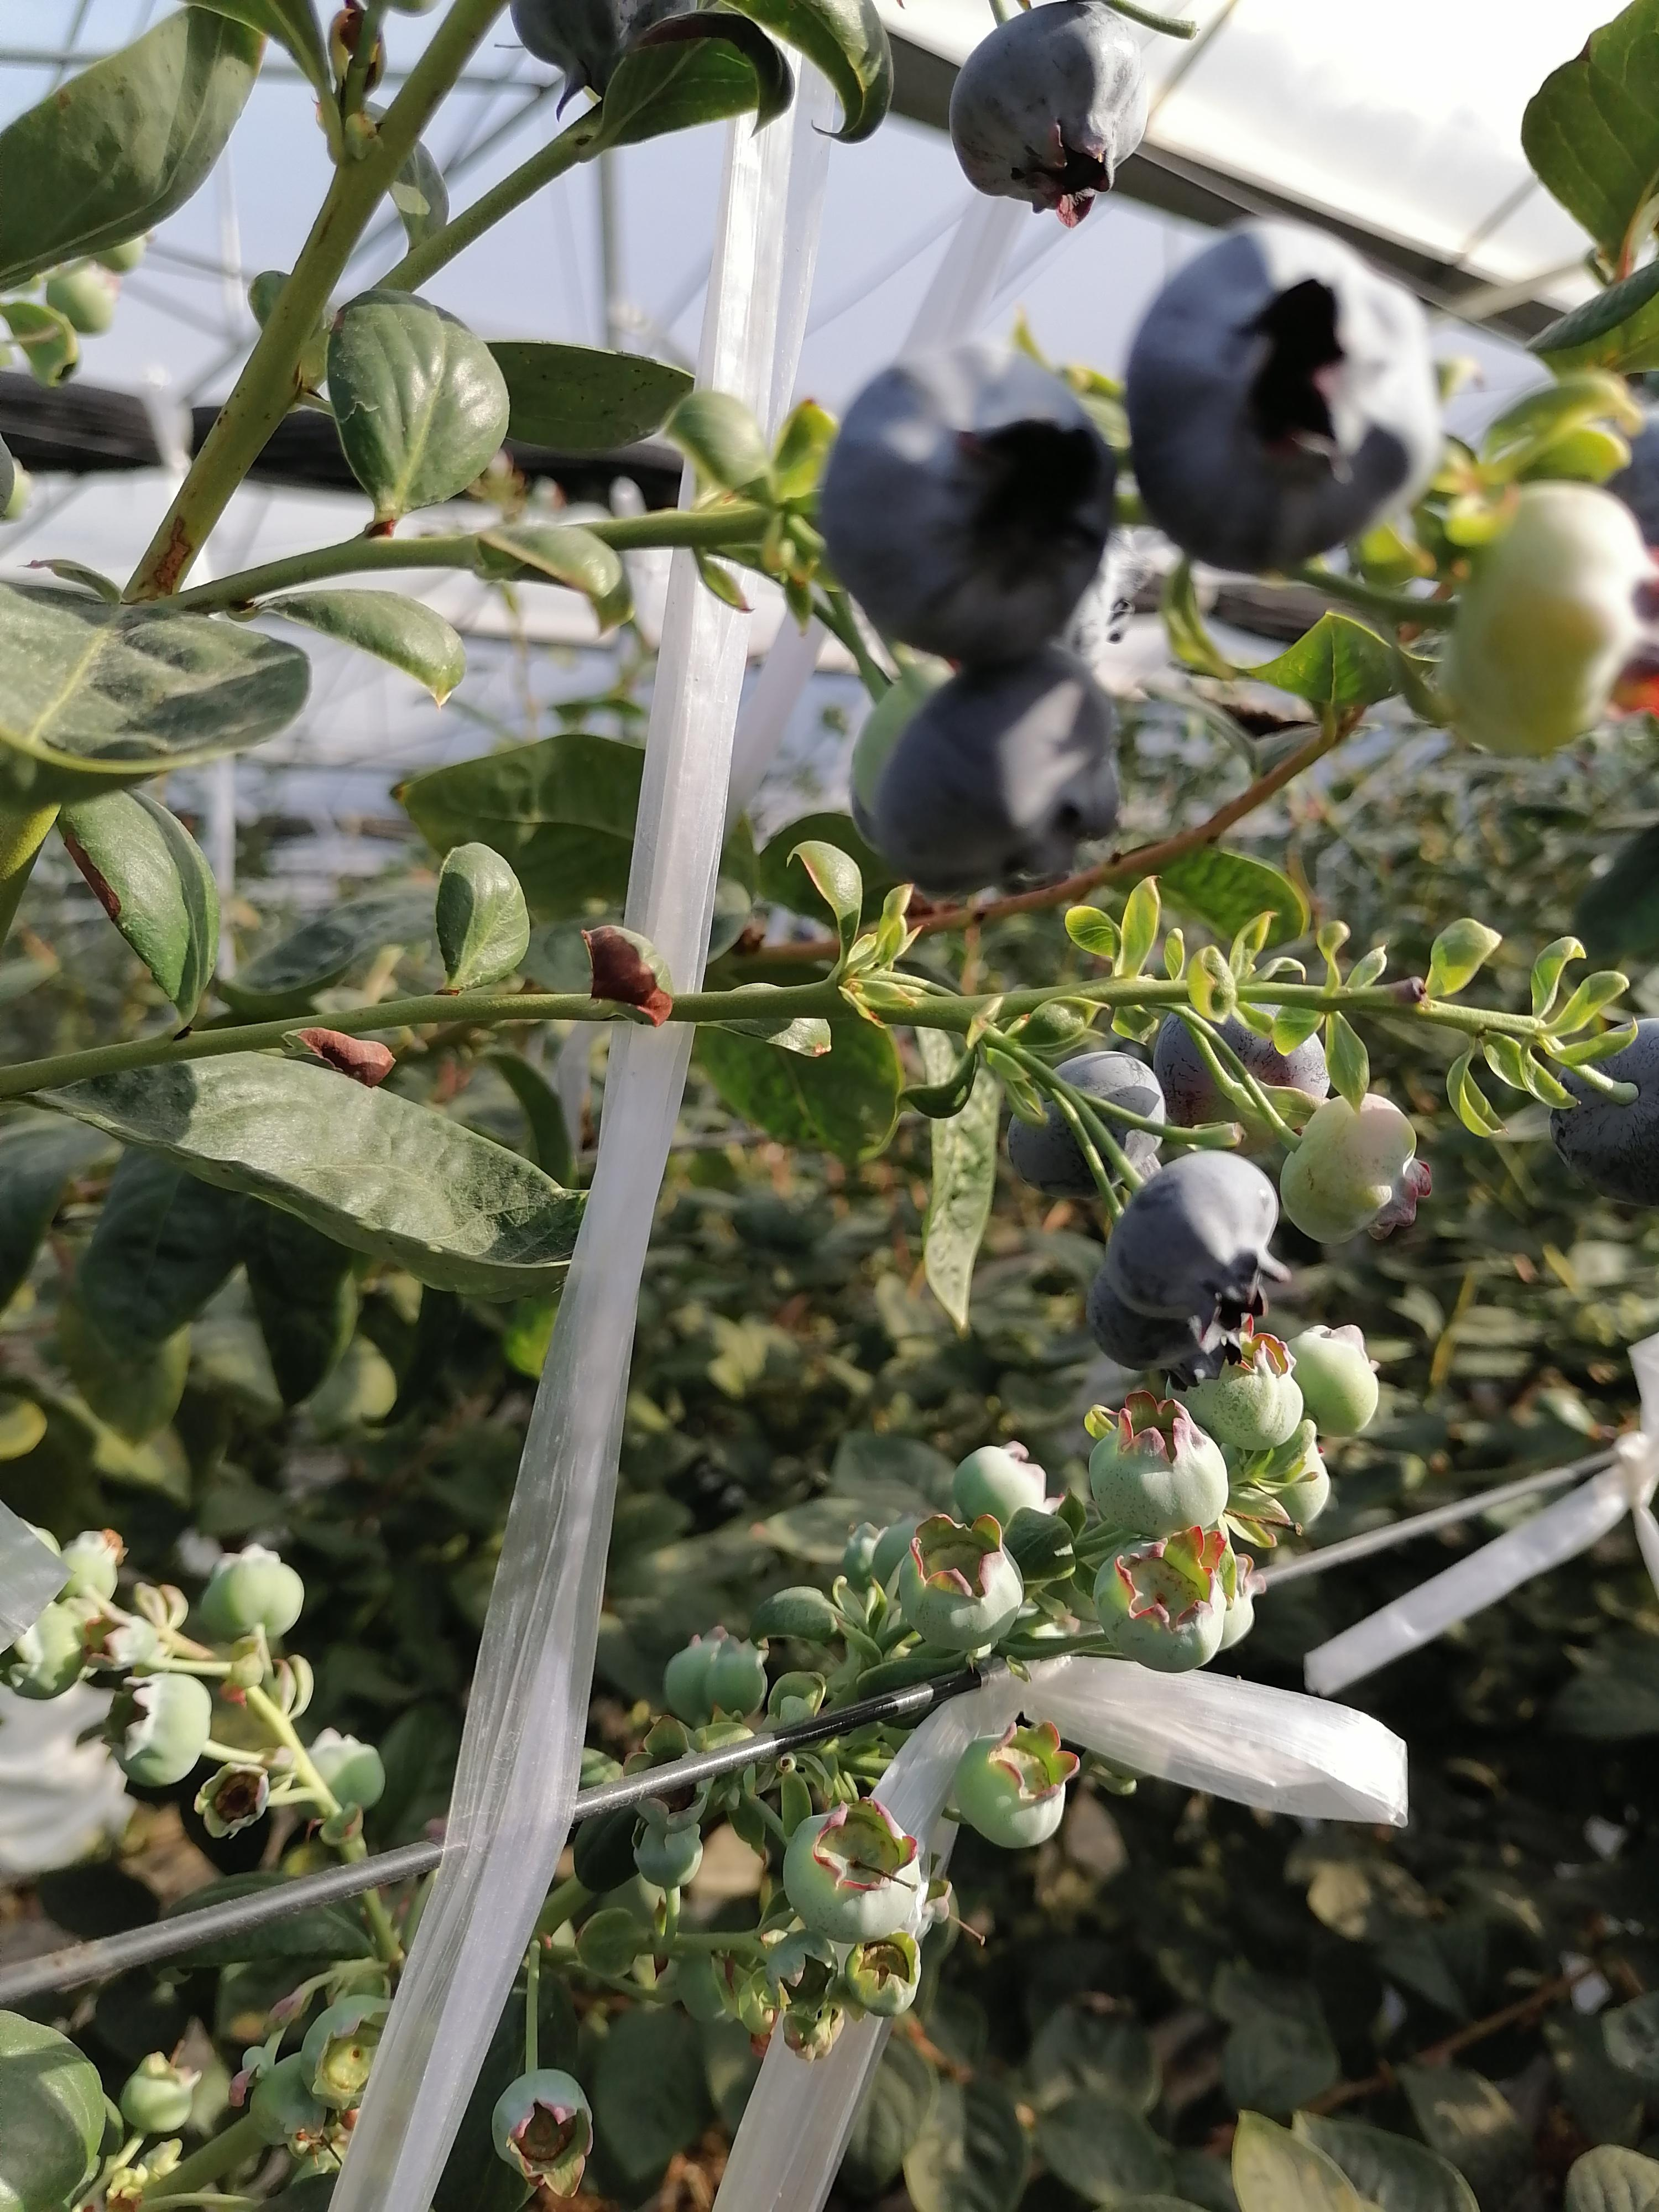ripe-blueberries: (1124, 221, 1445, 573), (819, 336, 1117, 669), (873, 646, 1122, 904), (948, 0, 1150, 228), (1107, 1150, 1293, 1341), (1152, 993, 1330, 1151), (1004, 1049, 1168, 1202), (1549, 1017, 1659, 1214), (1086, 1264, 1241, 1390)
